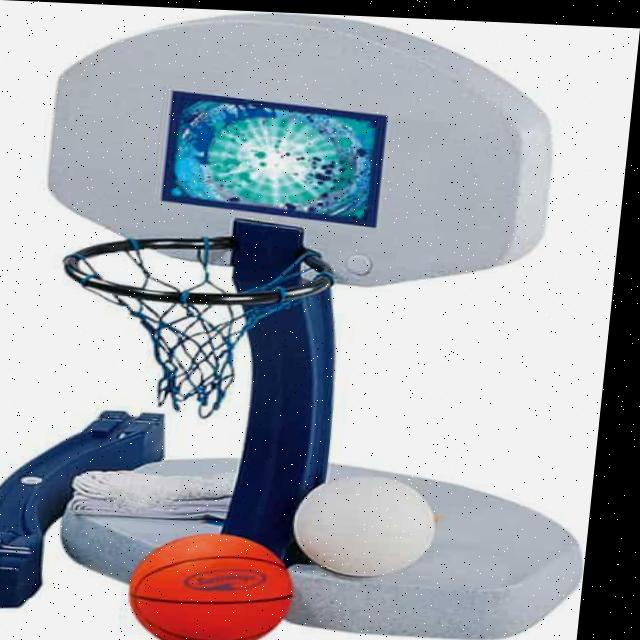basketball: (125, 530, 299, 640), (289, 473, 440, 579)
hoop: (49, 230, 340, 423)
